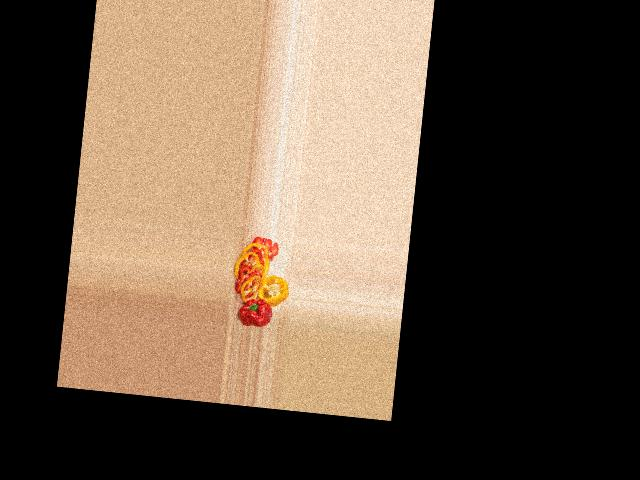bell_pepper: (257, 272, 291, 306)
